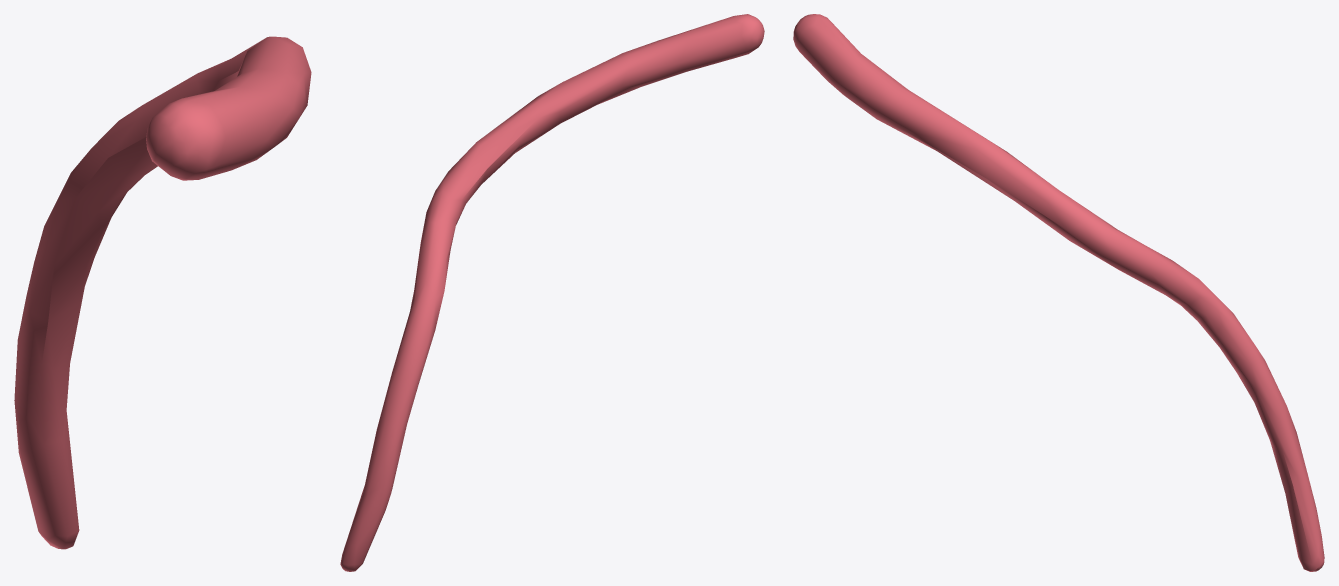
The model's file is fma3895_fj3660.glb.
3 views of the same model, side by side, from view 1: azimuth 30°, elevation 25°; view 2: azimuth 150°, elevation 25°; view 3: azimuth 270°, elevation 25° (orthographic). The views are drawn at different scales.
Parts seen in each view (by area): view 1: FMA3895_FJ3660; view 2: FMA3895_FJ3660; view 3: FMA3895_FJ3660.
Boxes of the visible parts, left/top/right/bottom form: FMA3895_FJ3660: left=14, top=36, right=311, bottom=549; FMA3895_FJ3660: left=340, top=14, right=764, bottom=571; FMA3895_FJ3660: left=793, top=14, right=1324, bottom=571.
Bounding box in the file's own units: 0.0161 × 0.0339 × 0.0349.
